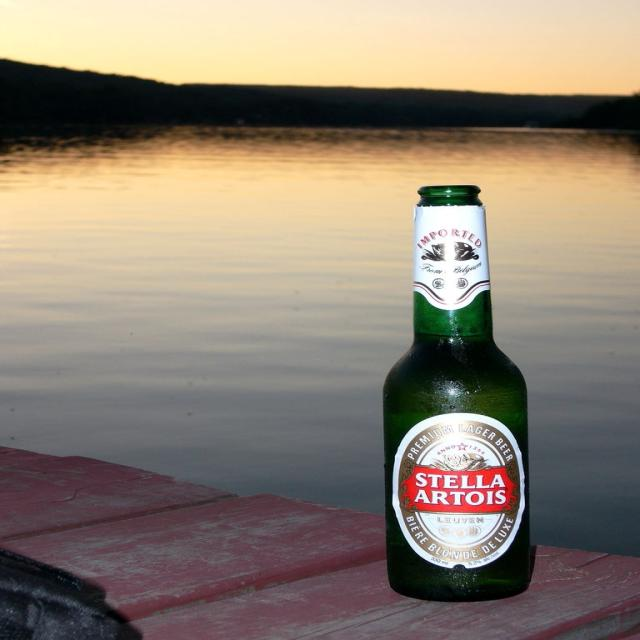stellaartois: (401, 422, 521, 565)
